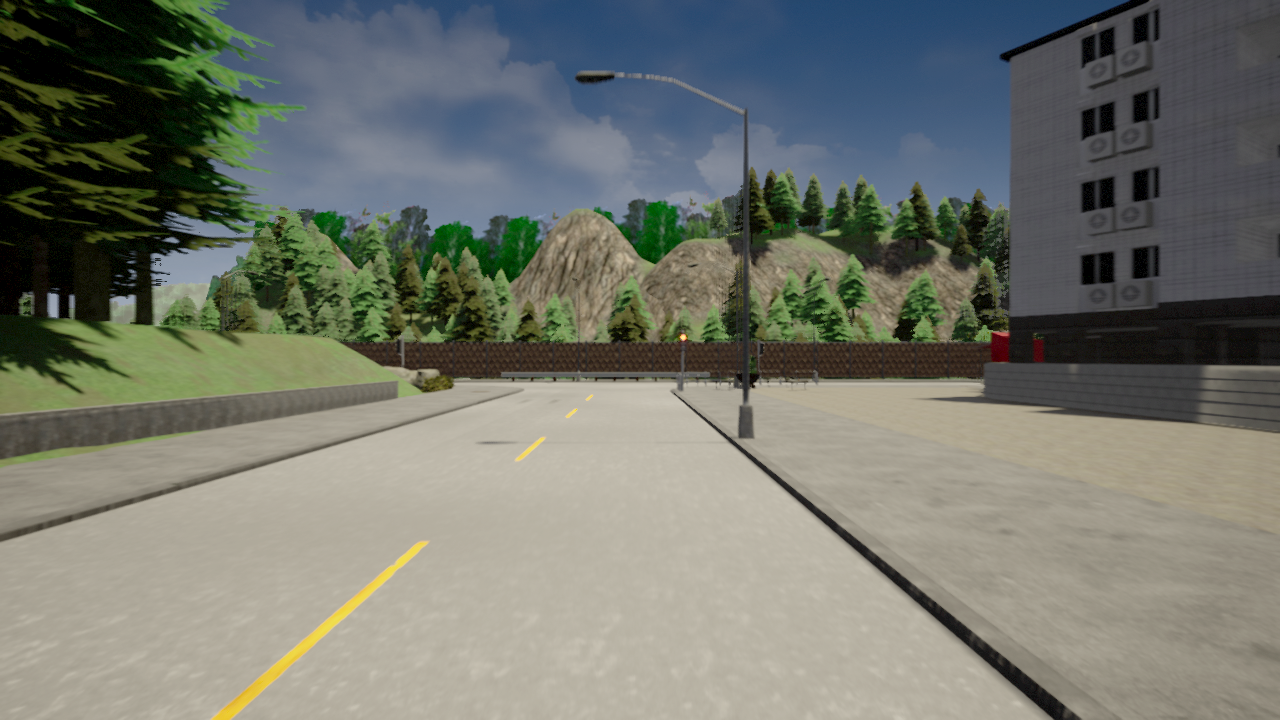red: (679, 333, 687, 352)
